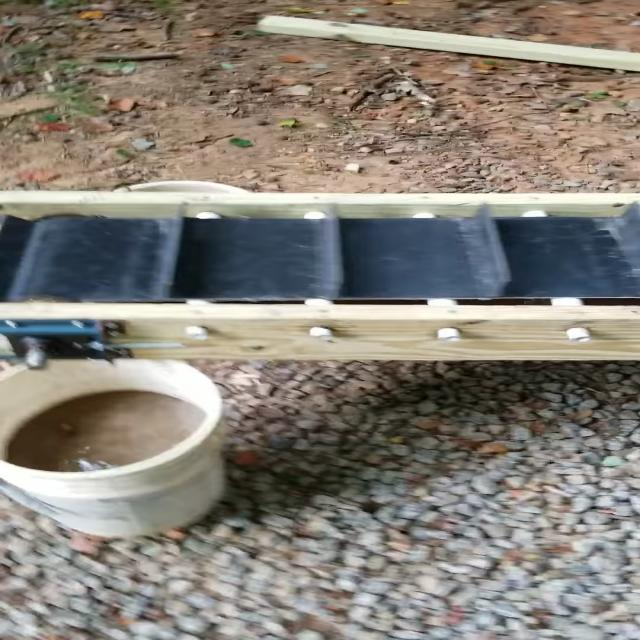Convoyeur: (0, 184, 640, 364)
